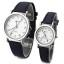watch: (4, 13, 29, 42), (35, 25, 56, 48)
